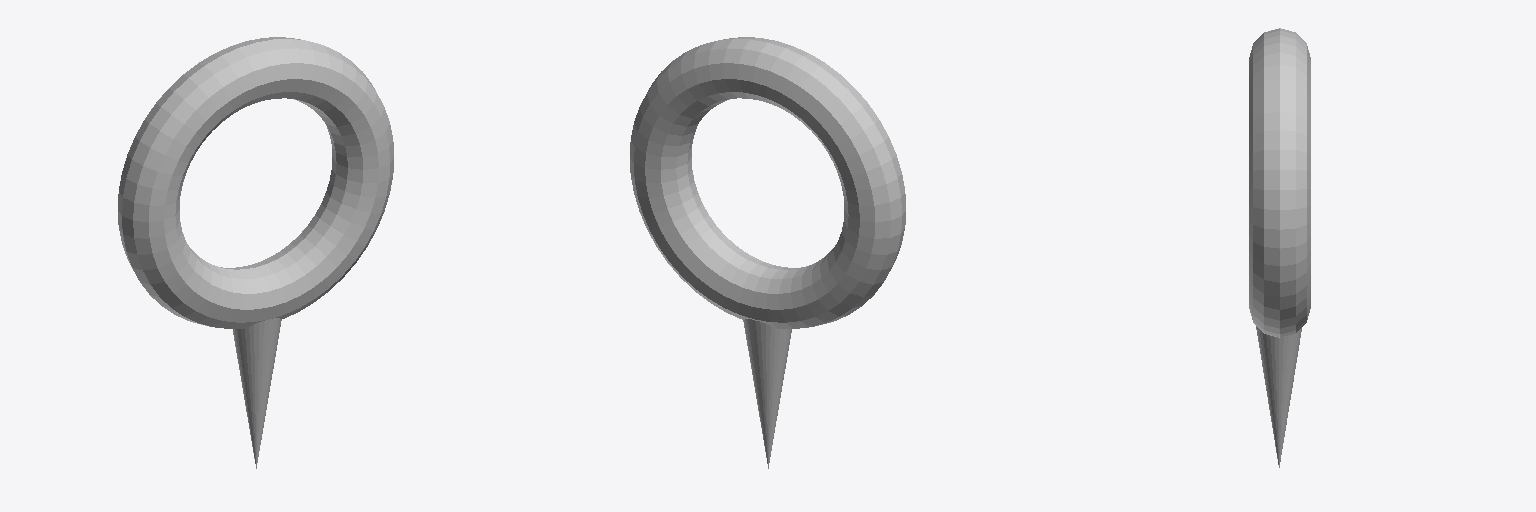
The model's file is pointer.obj.
The picture shows the model from 3 angles: view 1: azimuth 30°, elevation 25°; view 2: azimuth 150°, elevation 25°; view 3: azimuth 270°, elevation 25°; orthographic projection.
Parts seen in each view (by area): view 1: Torus, Cone; view 2: Torus, Cone; view 3: Torus, Cone.
Boxes of the visible parts, <box> form: Torus: <box>118,37,393,328</box>; Cone: <box>233,318,281,468</box>; Torus: <box>630,37,905,328</box>; Cone: <box>743,319,791,468</box>; Torus: <box>1249,28,1310,337</box>; Cone: <box>1256,326,1301,467</box>.
Bounding box in the file's own units: 2.5 × 3.8 × 0.5.